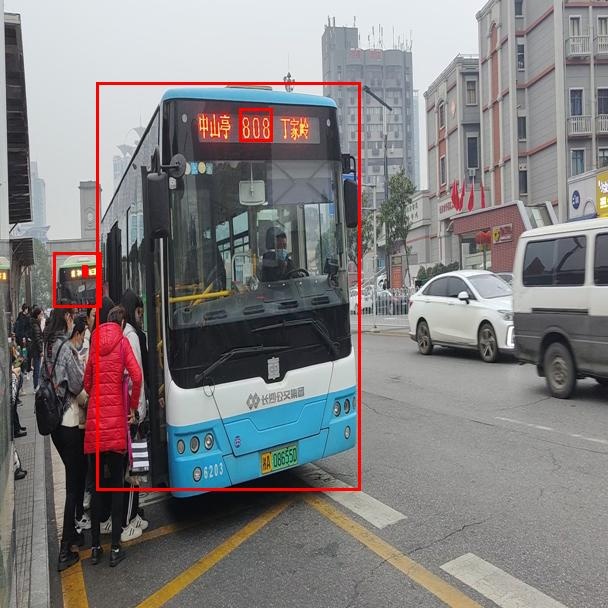bus: (96, 82, 360, 490), (53, 252, 101, 307)
screen: (239, 108, 272, 141), (82, 265, 87, 276)
